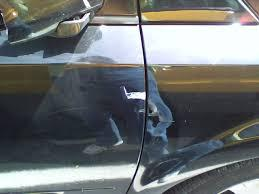doorouter-dent: (22, 32, 144, 191)
quaterpanel-dent: (147, 26, 231, 165)
